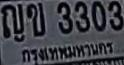0: (91, 1, 106, 32)
3: (56, 2, 73, 34), (74, 1, 90, 33), (107, 1, 124, 31)
A02: (26, 2, 46, 37)
A13: (0, 3, 25, 42)
BKK: (17, 39, 116, 65)
